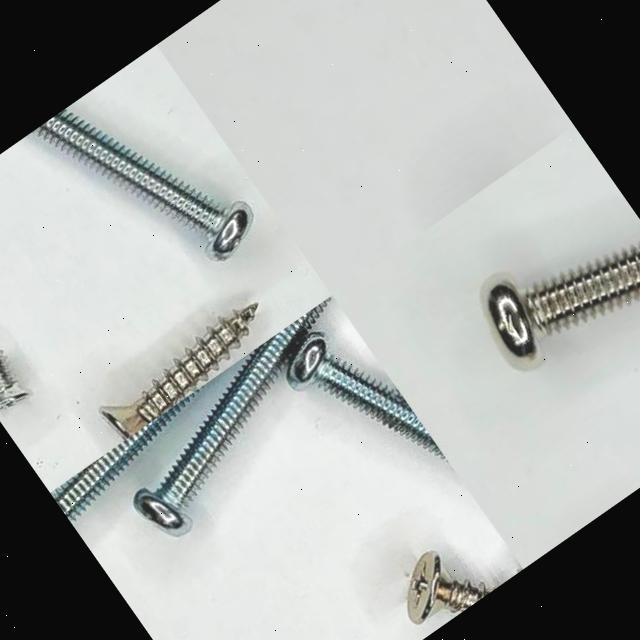Screw: (133, 295, 333, 535), (34, 107, 253, 259), (99, 303, 258, 440), (50, 383, 205, 522), (286, 333, 448, 460), (487, 244, 640, 359), (407, 552, 494, 624), (0, 350, 31, 410)
